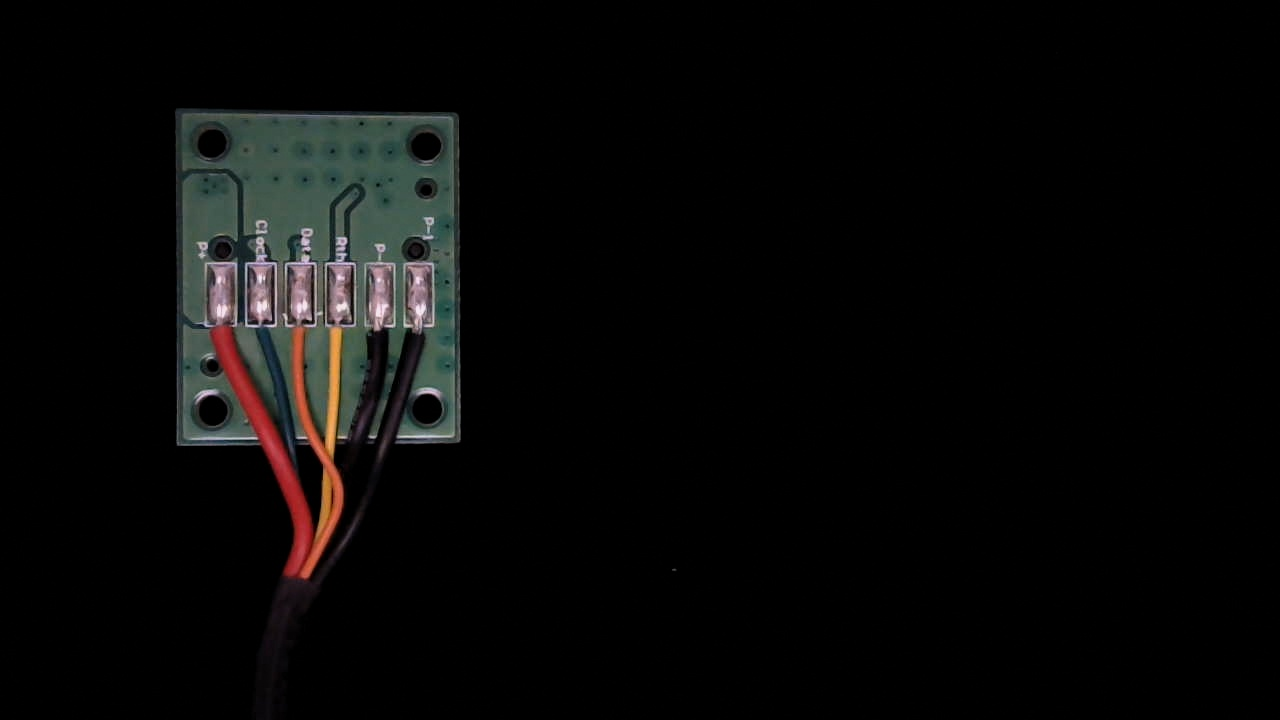Black: (362, 313, 391, 375)
Black1: (403, 314, 434, 372)
Green: (244, 313, 278, 366)
Orange: (285, 312, 315, 370)
Red: (201, 314, 236, 371)
Yellow: (322, 313, 355, 376)
